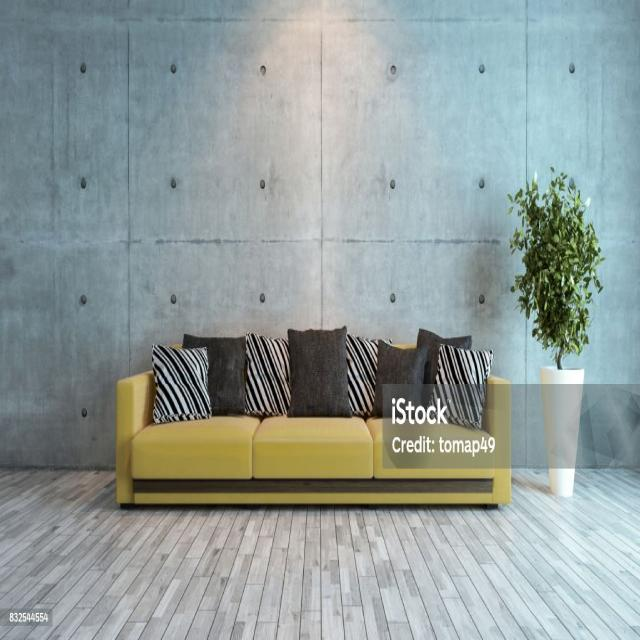back_cushion: (152, 327, 492, 427)
base: (133, 479, 498, 503)
left_arm: (482, 376, 511, 503)
right_arm: (116, 372, 154, 504)
seat_cushion: (130, 415, 508, 479)
stallion-sofa1: (0, 0, 639, 639)
